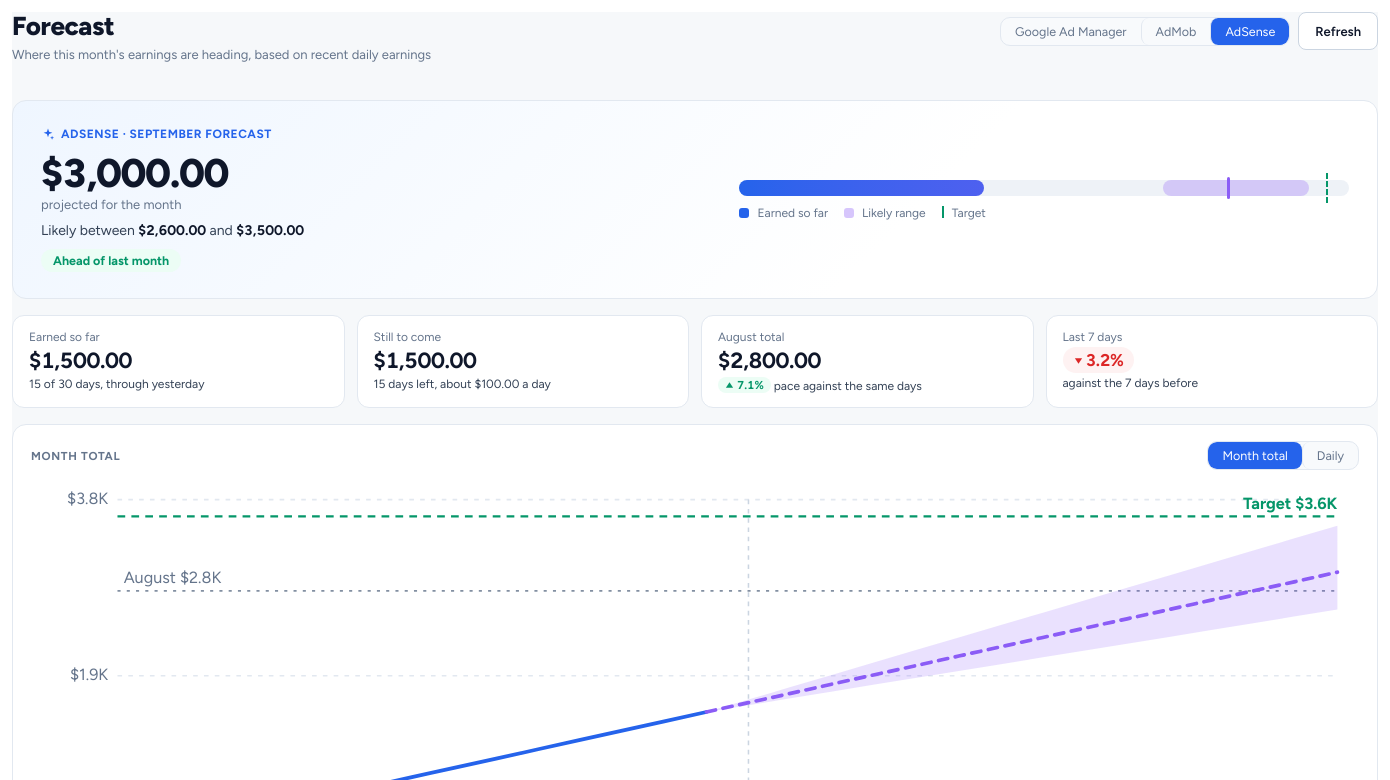
Test: the chart switches between month total (with target and last month) and daily
Check: the element with class "fc-band" is shown, box [706, 526, 1337, 712]
Check: the element with class "fc-proj-line" is shown, box [706, 572, 1337, 712]
Click the button "Daily" at (1330, 456), box [1302, 442, 1358, 469]
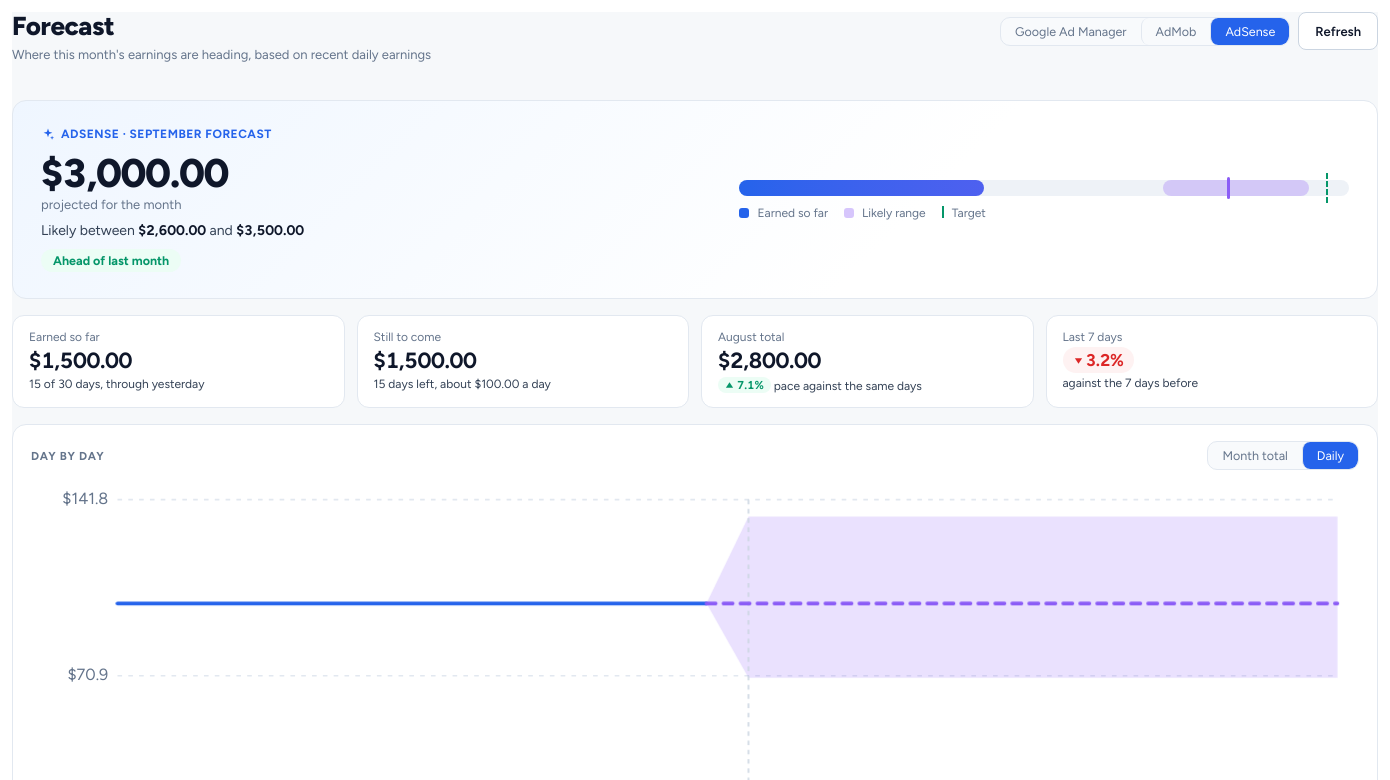
Check: the text with class "aic-cap-title" reads "Day by day", box [31, 449, 104, 463]
